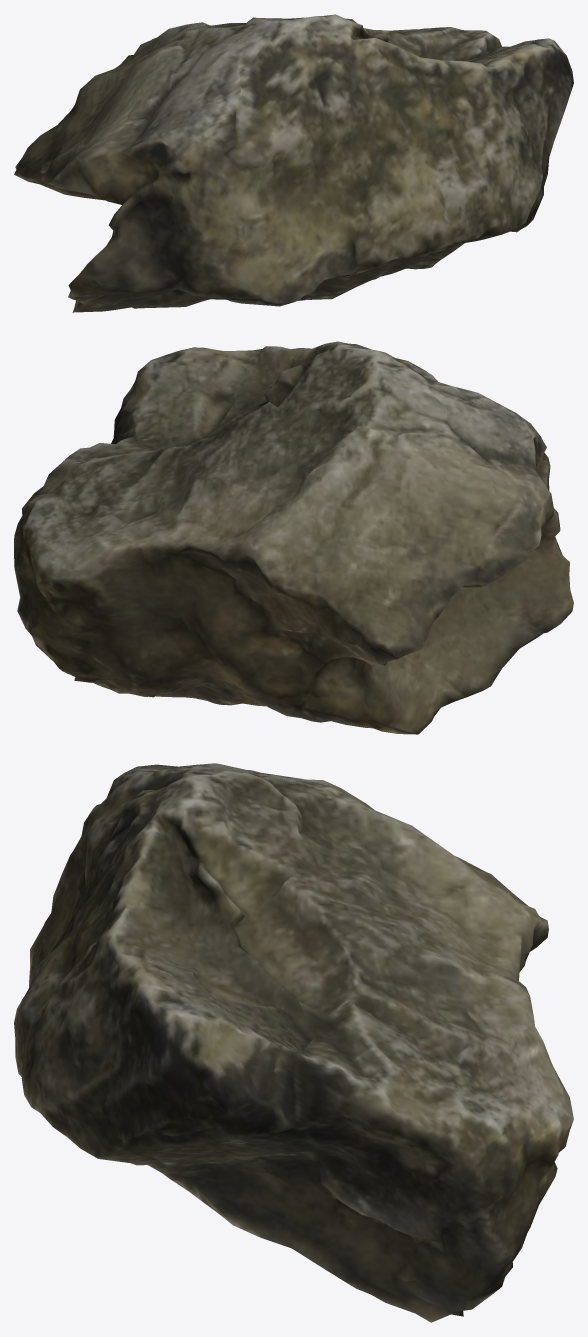
The model's file is Scan_MossStone_E.fbx.
3 renders of one model, top to bottom at view 1: azimuth 30°, elevation 25°; view 2: azimuth 150°, elevation 25°; view 3: azimuth 270°, elevation 25°, orthographic. The views are drawn at different scales.
Visible parts, largest first — view 1: Scan_MossStone_E_LOD0; view 2: Scan_MossStone_E_LOD0; view 3: Scan_MossStone_E_LOD0.
Part boxes in pixels (x1,y1,x2,y2): Scan_MossStone_E_LOD0: [14, 14, 573, 312]; Scan_MossStone_E_LOD0: [14, 341, 573, 734]; Scan_MossStone_E_LOD0: [14, 763, 573, 1322].
Size of what is drawn, in the model's own units: 1.96 by 1.31 by 1.53.
